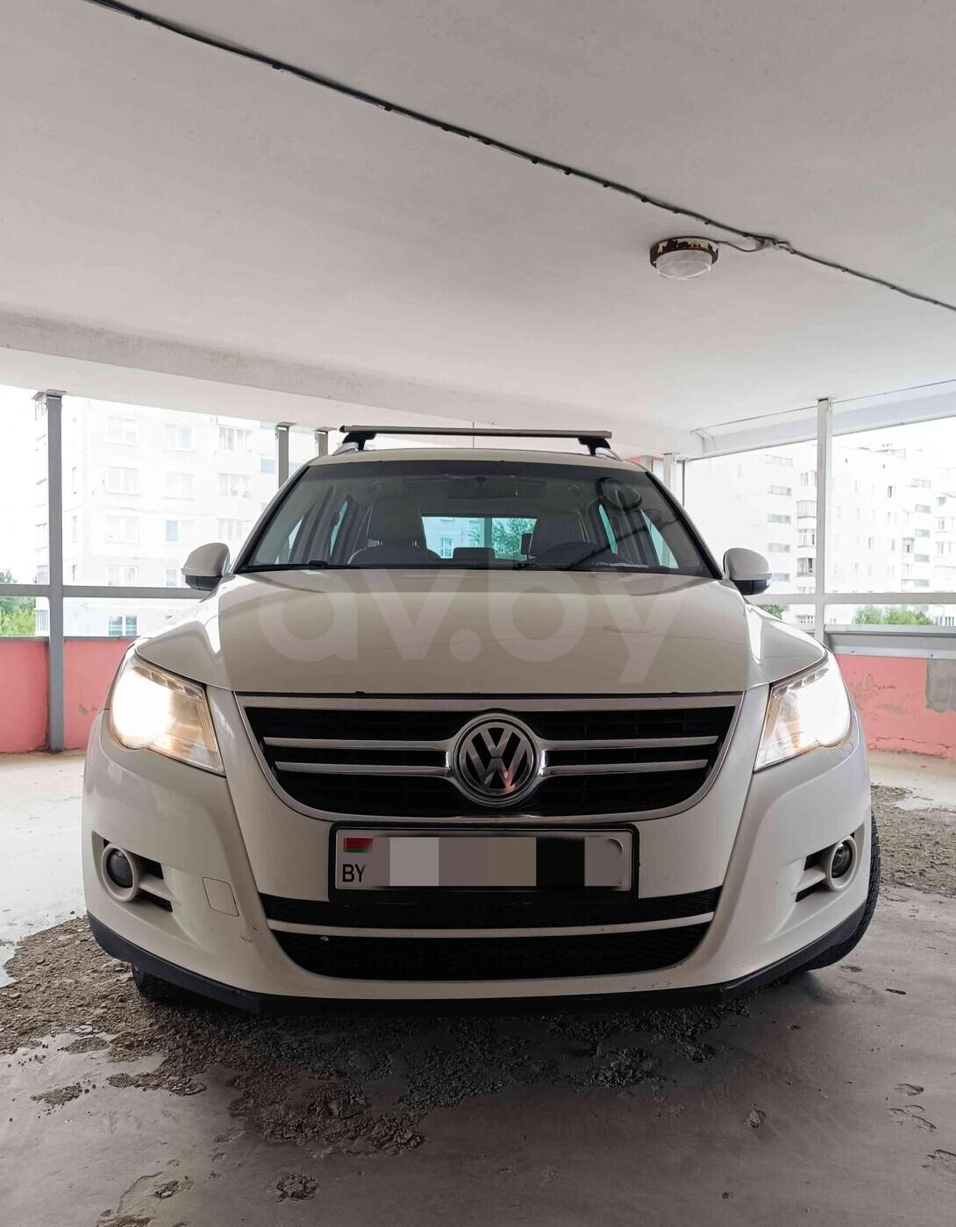Tiguan_2007-2011: (67, 432, 886, 1017)
